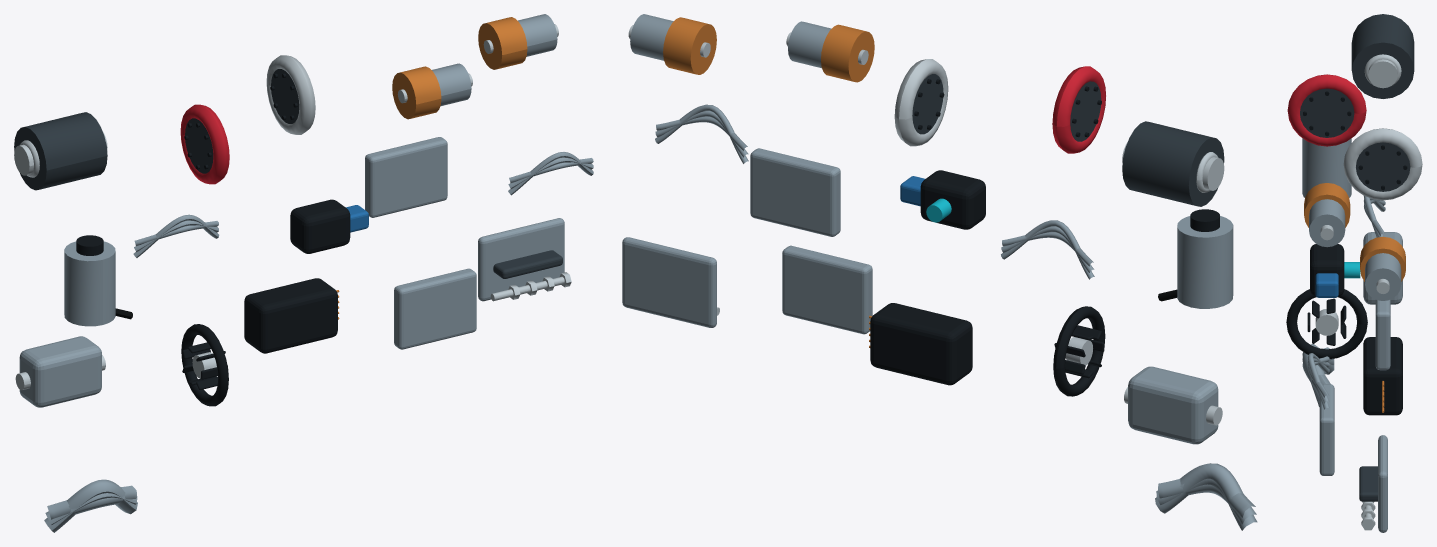
The model's file is generic_hvac.glb.
3 views of the same model, side by side, from view 1: azimuth 30°, elevation 25°; view 2: azimuth 150°, elevation 25°; view 3: azimuth 270°, elevation 25° (orthographic). The views are drawn at different scales.
Parts seen in each view (by area): view 1: system_mesh__blower_pwm__housing, system_mesh__cabin_filter__frame, system_mesh__heater_core__frame, system_mesh__ac_compressor__stator, system_mesh__hvac_box__recognizable_body, system_mesh__air_doors__outer_surface, system_mesh__receiver_drier__reservoir, system_mesh__ac_pressure_sensor__sealed_body, system_mesh__expansion_valve__coil, system_mesh__compressor_control_valve__coil, system_mesh__compressor_clutch__friction_ring, system_mesh__compressor_pulley__friction_ring (+8 smaller); view 2: system_mesh__air_doors__outer_surface, system_mesh__blower_pwm__housing, system_mesh__heater_core__frame, system_mesh__cabin_filter__frame, system_mesh__ac_compressor__stator, system_mesh__hvac_box__recognizable_body, system_mesh__receiver_drier__reservoir, system_mesh__ac_pressure_sensor__sealed_body, system_mesh__expansion_valve__coil, system_mesh__compressor_control_valve__coil, system_mesh__compressor_clutch__friction_ring, system_mesh__compressor_pulley__friction_ring (+7 smaller); view 3: system_mesh__ac_compressor__stator, system_mesh__blower_pwm__housing, system_mesh__compressor_clutch__friction_ring, system_mesh__compressor_pulley__friction_ring, system_mesh__compressor_pulley__hub, system_mesh__compressor_clutch__hub, system_mesh__receiver_drier__reservoir, system_mesh__blower_motor__shroud, system_mesh__expansion_valve__body, system_mesh__compressor_control_valve__body, system_mesh__cabin_filter__frame, system_mesh__ac_pressure_sensor__sealed_body (+17 smaller).
Boxes of the visible parts, bbox=[...] form: system_mesh__blower_pwm__housing: bbox=[244, 278, 337, 353]; system_mesh__cabin_filter__frame: bbox=[394, 268, 476, 349]; system_mesh__heater_core__frame: bbox=[365, 137, 447, 217]; system_mesh__ac_compressor__stator: bbox=[14, 112, 107, 190]; system_mesh__hvac_box__recognizable_body: bbox=[19, 336, 101, 407]; system_mesh__air_doors__outer_surface: bbox=[478, 218, 564, 301]; system_mesh__receiver_drier__reservoir: bbox=[64, 241, 115, 326]; system_mesh__ac_pressure_sensor__sealed_body: bbox=[290, 199, 350, 253]; system_mesh__expansion_valve__coil: bbox=[478, 17, 527, 69]; system_mesh__compressor_control_valve__coil: bbox=[392, 66, 441, 119]; system_mesh__compressor_clutch__friction_ring: bbox=[180, 104, 229, 184]; system_mesh__compressor_pulley__friction_ring: bbox=[266, 55, 315, 134]; system_mesh__air_doors__outer_surface: bbox=[622, 237, 716, 327]; system_mesh__blower_pwm__housing: bbox=[870, 303, 972, 385]; system_mesh__heater_core__frame: bbox=[750, 148, 840, 236]; system_mesh__cabin_filter__frame: bbox=[782, 245, 872, 334]; system_mesh__ac_compressor__stator: bbox=[1122, 121, 1224, 206]; system_mesh__hvac_box__recognizable_body: bbox=[1128, 366, 1218, 444]; system_mesh__receiver_drier__reservoir: bbox=[1177, 216, 1233, 308]; system_mesh__ac_pressure_sensor__sealed_body: bbox=[920, 170, 985, 229]; system_mesh__expansion_valve__coil: bbox=[663, 17, 716, 74]; system_mesh__compressor_control_valve__coil: bbox=[821, 24, 874, 82]; system_mesh__compressor_clutch__friction_ring: bbox=[1052, 66, 1105, 153]; system_mesh__compressor_pulley__friction_ring: bbox=[894, 59, 948, 146]; system_mesh__ac_compressor__stator: bbox=[1351, 14, 1414, 98]; system_mesh__blower_pwm__housing: bbox=[1363, 337, 1402, 415]; system_mesh__compressor_clutch__friction_ring: bbox=[1287, 74, 1366, 146]; system_mesh__compressor_pulley__friction_ring: bbox=[1343, 128, 1422, 200]; system_mesh__compressor_pulley__hub: bbox=[1356, 142, 1410, 191]; system_mesh__compressor_clutch__hub: bbox=[1300, 88, 1354, 137]; system_mesh__receiver_drier__reservoir: bbox=[1302, 138, 1351, 197]; system_mesh__blower_motor__shroud: bbox=[1286, 289, 1367, 358]; system_mesh__expansion_valve__body: bbox=[1365, 253, 1401, 300]; system_mesh__compressor_control_valve__body: bbox=[1309, 199, 1345, 247]; system_mesh__cabin_filter__frame: bbox=[1319, 384, 1334, 475]; system_mesh__ac_pressure_sensor__sealed_body: bbox=[1310, 244, 1344, 296].
Size of the model in its own units: 7.39 by 4.97 by 1.65.
